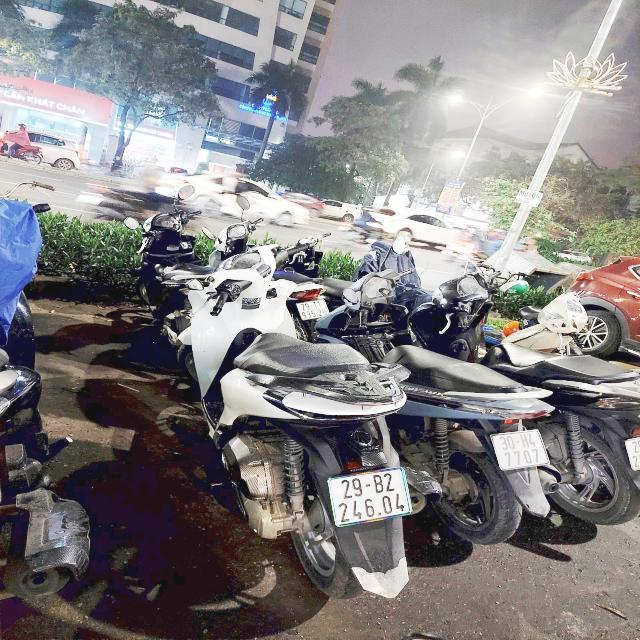license_plate: (326, 466, 416, 530), (489, 429, 553, 473)
